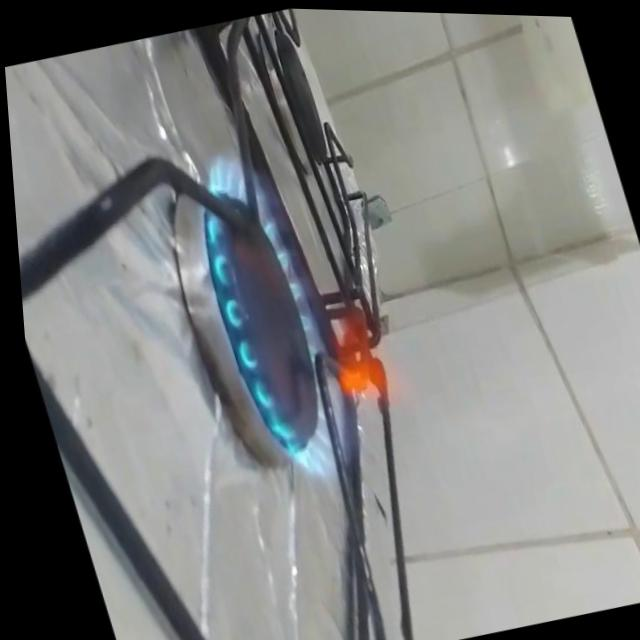Fire: (169, 115, 433, 498)
